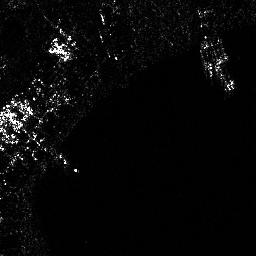ship: (216, 66, 238, 92)
